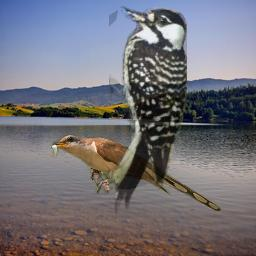Cuckoo: (47, 134, 222, 212)
Woodpecker: (109, 5, 187, 214)
